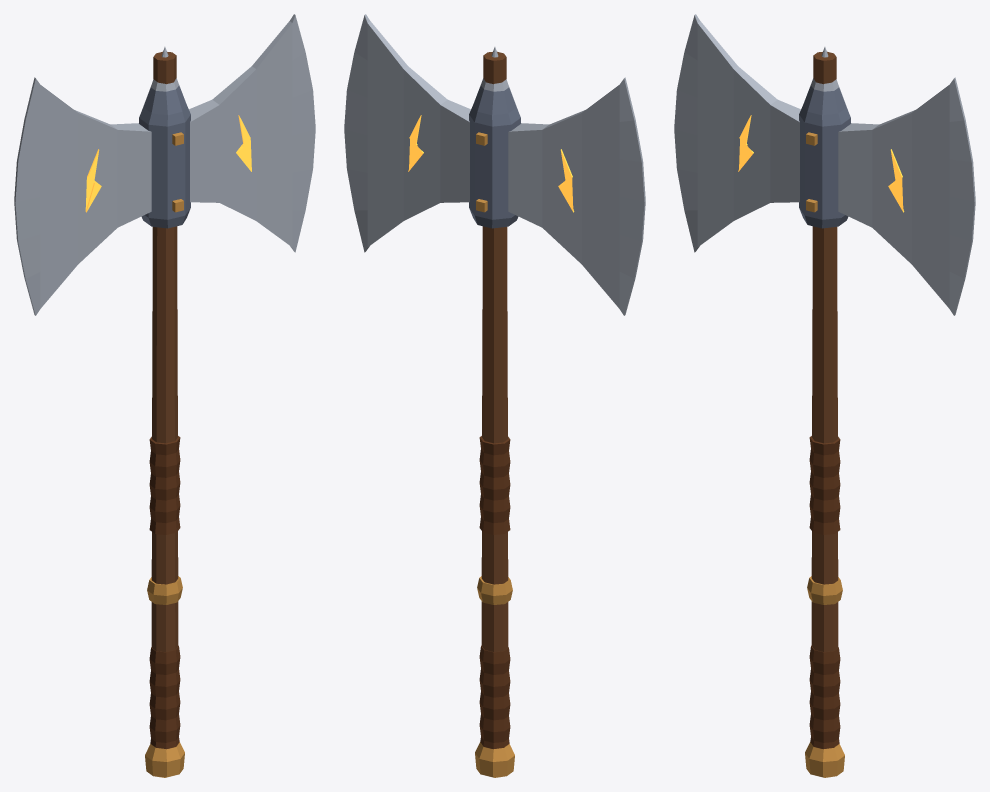
Rendered from W2_GreatAxe.fbx.
3 views of the same model, side by side, from view 1: azimuth 30°, elevation 25°; view 2: azimuth 150°, elevation 25°; view 3: azimuth 330°, elevation 25° (orthographic).
Visible parts, largest first — view 1: W2_GreatAxe; view 2: W2_GreatAxe; view 3: W2_GreatAxe.
Part boxes in pixels (<box>): W2_GreatAxe: <box>14,14,315,777</box>; W2_GreatAxe: <box>344,14,645,777</box>; W2_GreatAxe: <box>674,14,975,777</box>.
Size of the model in its own units: 47.2 by 110 by 8.
